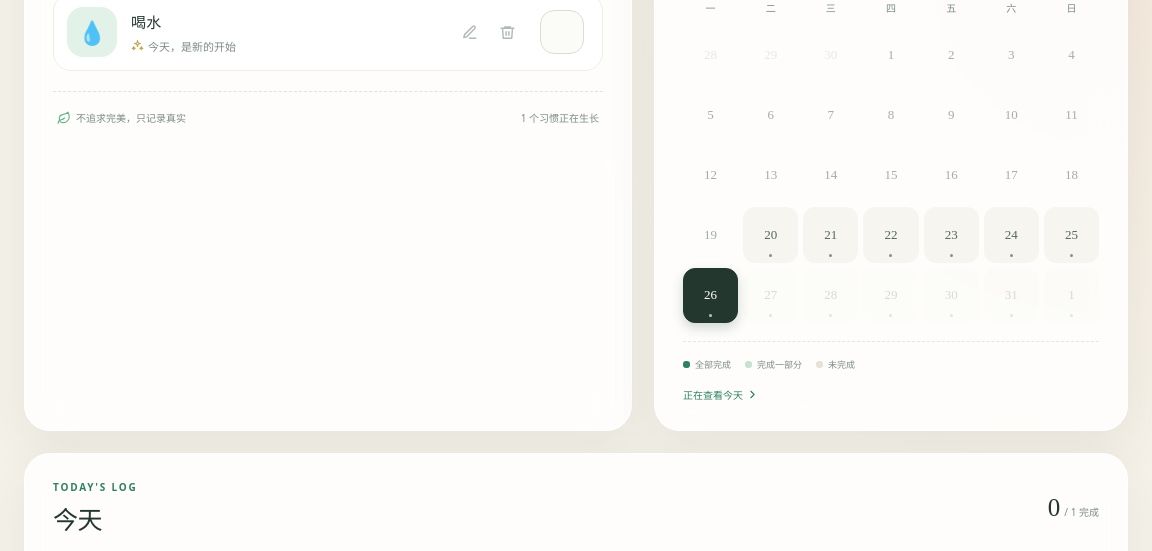
habit check-in page › backfills a past date and updates that habit's streak
This screenshot has width=1152, height=551.
(page scrolled)
Click the button named "10月25日" at point(1071, 235), box [1044, 208, 1099, 263]
(page scrolled)
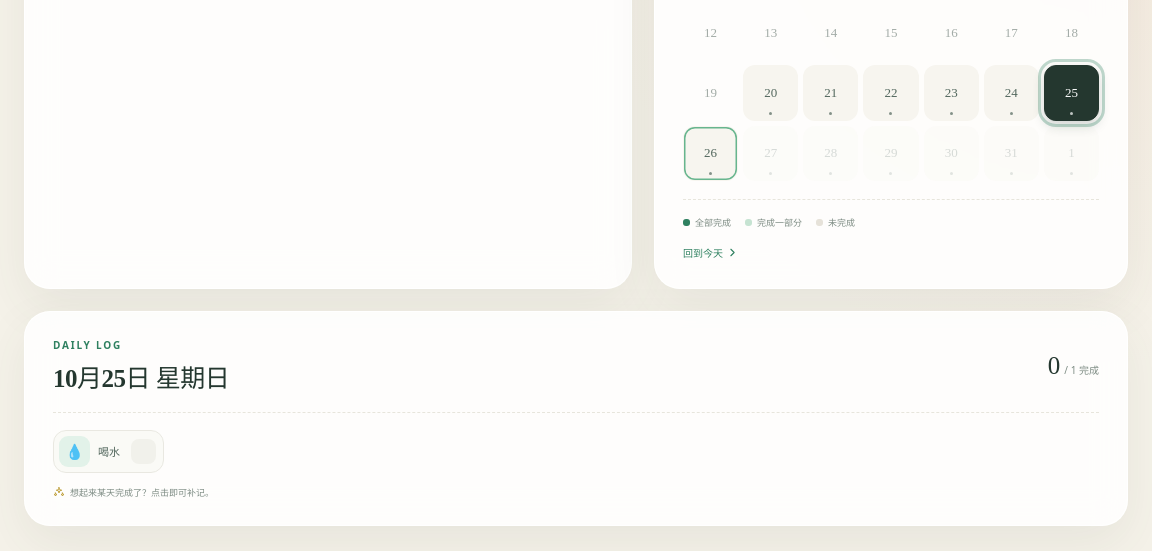
Click the button with aria-label "完成喝水" at point(108, 451), box [53, 430, 164, 473]
(page scrolled)
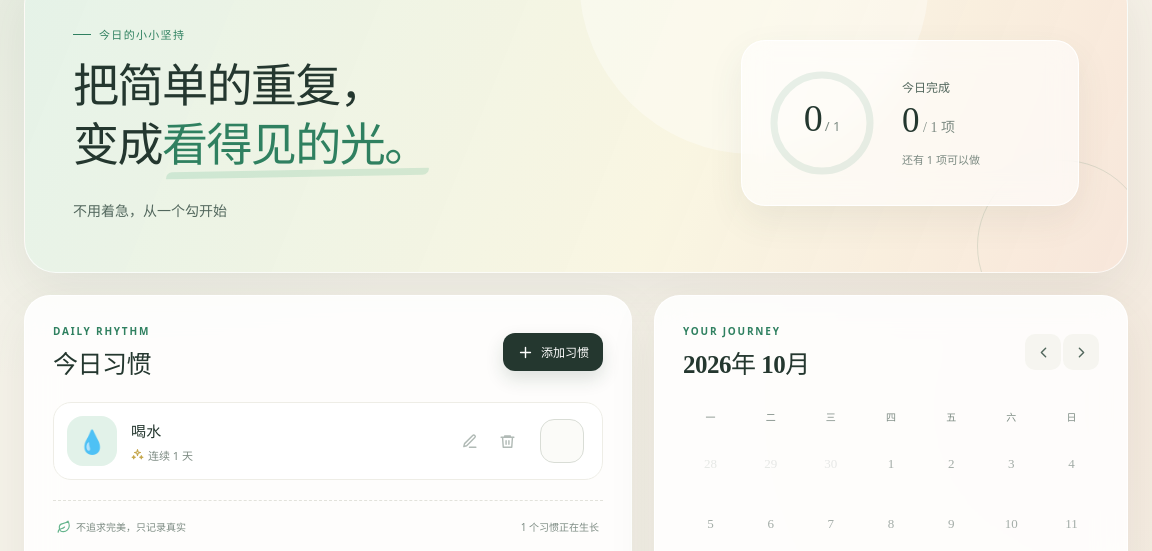
Expected: the picture named "今日完成 0 项，共 1 项" is shown, [764, 65, 880, 181]
Now the text "连续 1 天" is shown, box [131, 448, 193, 462]
